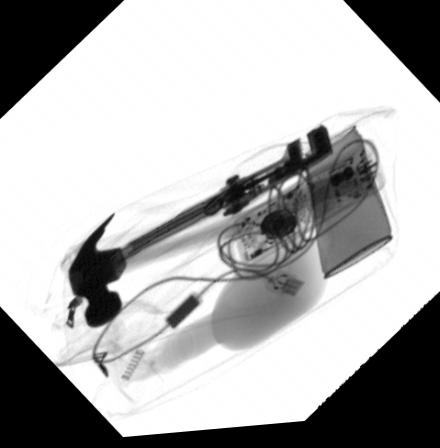Hammer: (66, 165, 386, 331)
Pliers: (119, 127, 334, 265)
